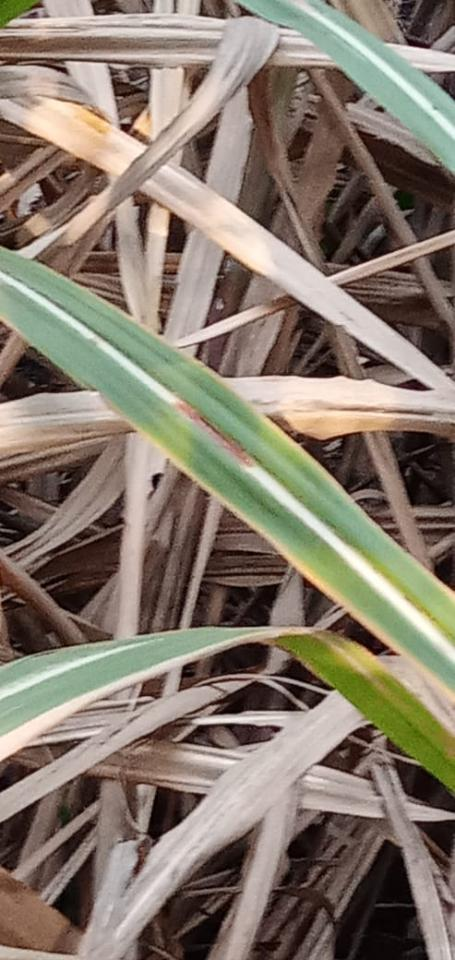RedRot: (169, 402, 261, 468)
